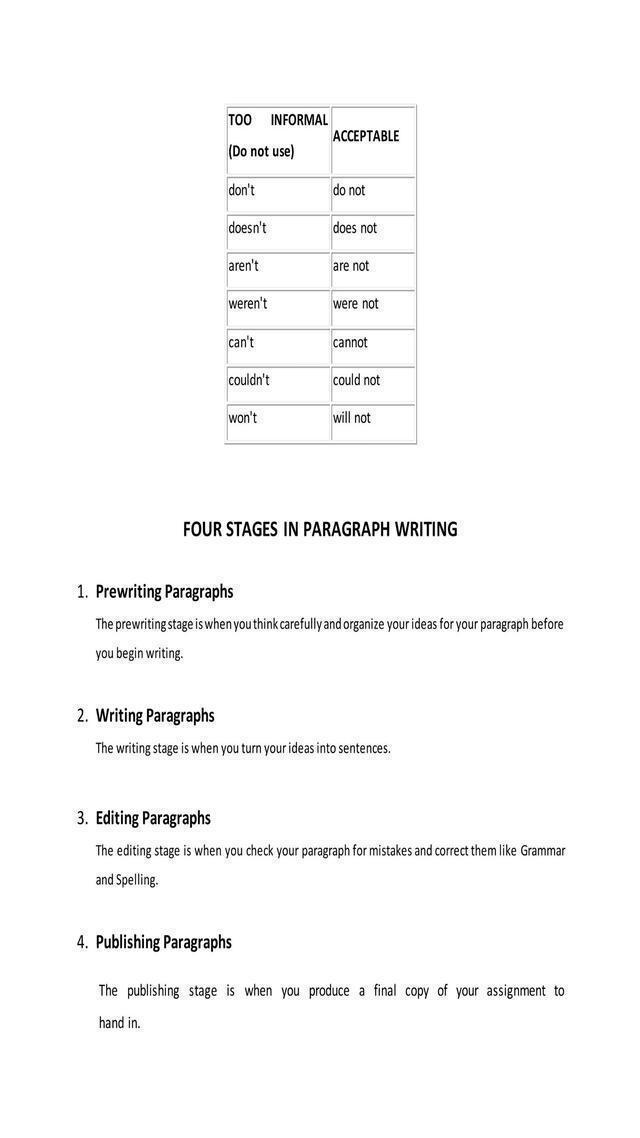Text: (91, 614, 566, 637), (95, 980, 567, 1000), (93, 841, 566, 860), (180, 516, 462, 539), (90, 738, 396, 759), (75, 931, 236, 954), (72, 704, 220, 729), (73, 582, 237, 604), (74, 806, 216, 831), (92, 642, 186, 667), (332, 125, 404, 148), (225, 111, 328, 127), (91, 871, 162, 892), (226, 140, 296, 160), (94, 1014, 144, 1036), (332, 372, 384, 390), (330, 294, 381, 311), (331, 408, 373, 428), (331, 220, 380, 236), (226, 408, 262, 429), (228, 295, 272, 312), (228, 372, 272, 388), (330, 335, 372, 351), (227, 219, 268, 235), (226, 258, 263, 274), (332, 260, 372, 274), (332, 182, 369, 197), (226, 184, 256, 202), (228, 334, 258, 350)
